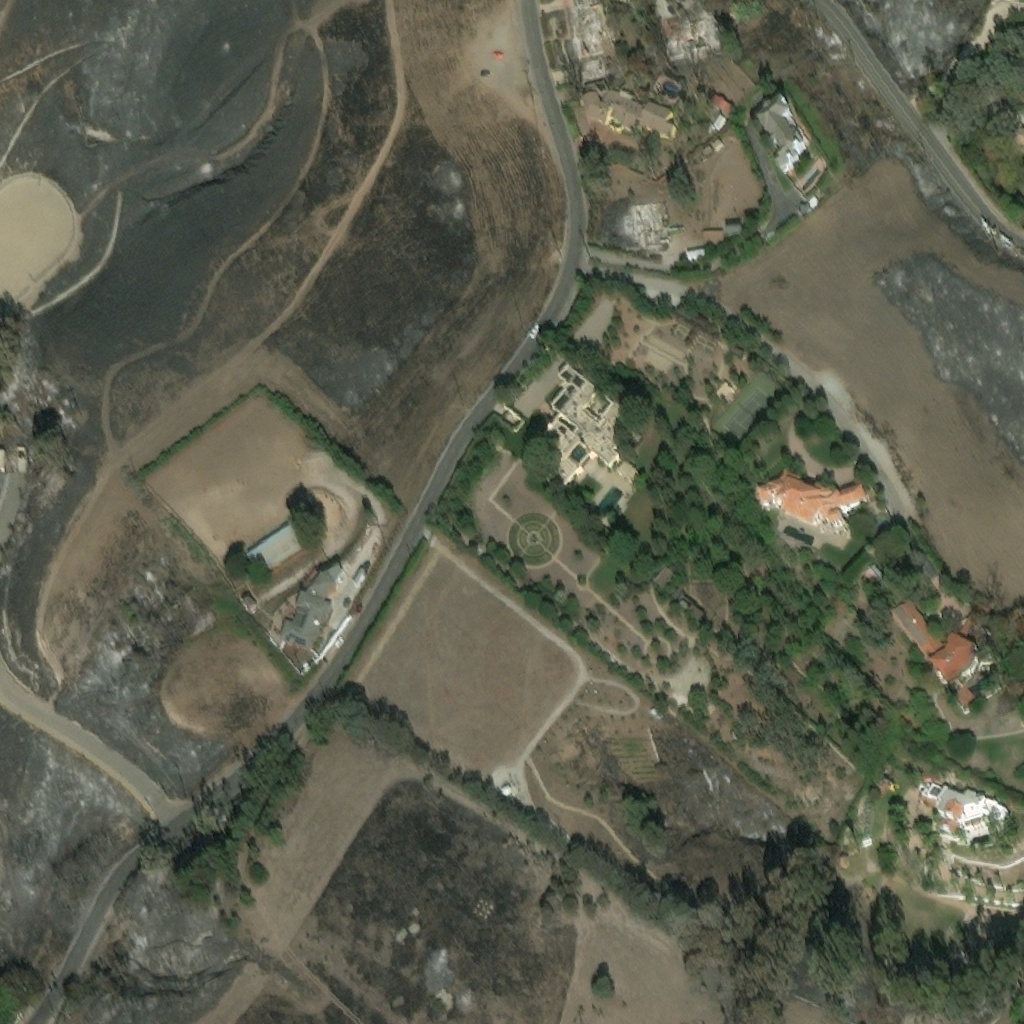0 no-damage: (523, 362, 669, 534), (763, 471, 871, 553), (911, 631, 1007, 712), (920, 779, 1013, 849), (282, 558, 348, 652), (581, 89, 681, 142), (754, 98, 812, 171), (246, 518, 301, 571), (711, 97, 735, 119), (702, 232, 725, 246), (712, 117, 727, 134), (358, 551, 371, 570), (688, 251, 706, 262), (712, 141, 725, 154), (726, 226, 744, 235), (704, 150, 714, 159)
3 destroyed: (661, 15, 726, 52), (569, 0, 605, 57), (630, 199, 664, 251), (582, 56, 606, 79)
